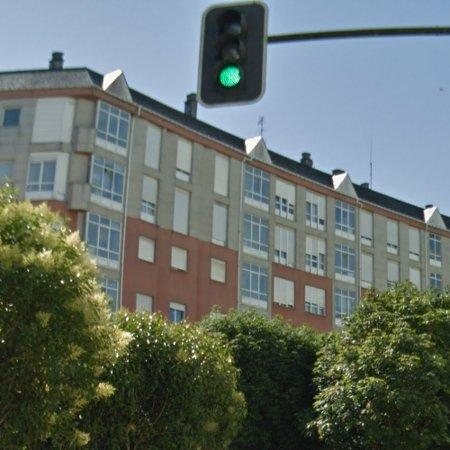traffic lights: (198, 2, 450, 106)
